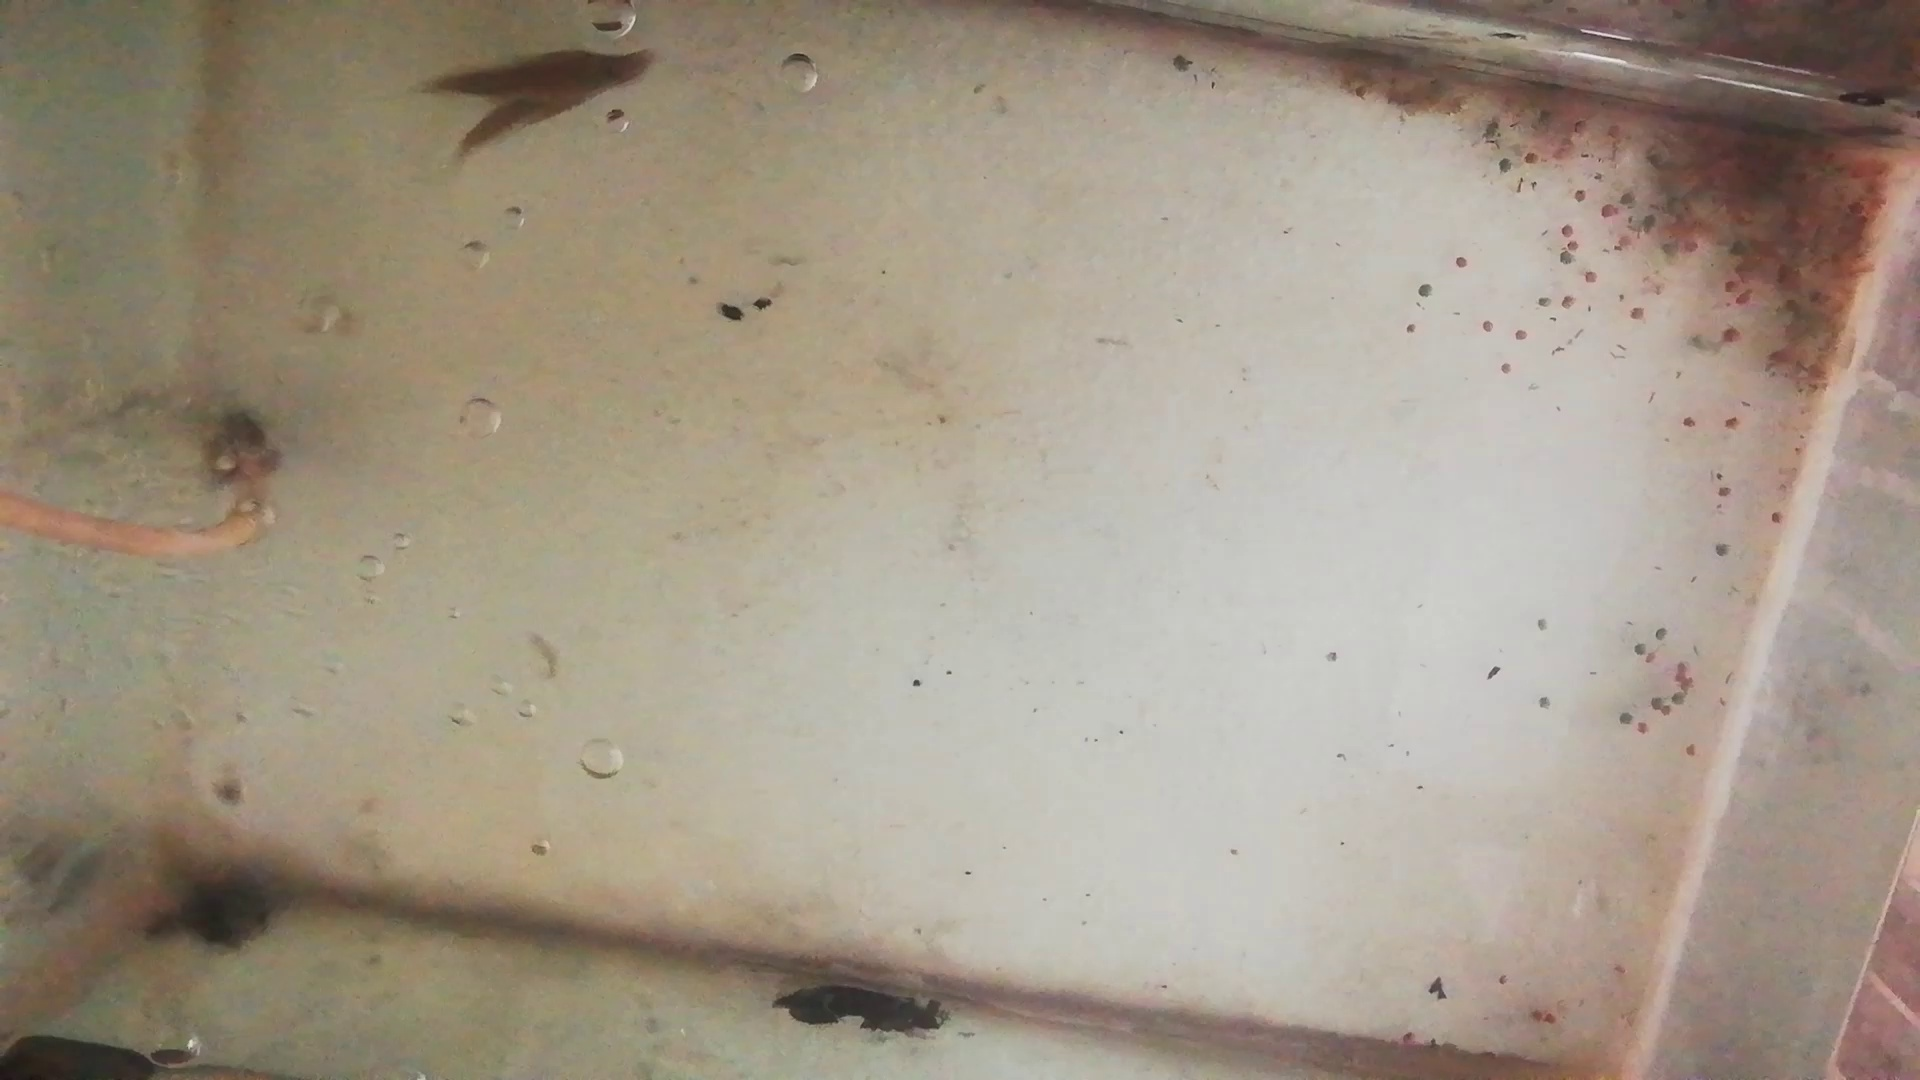fish: (444, 88, 634, 160), (422, 46, 645, 98)
